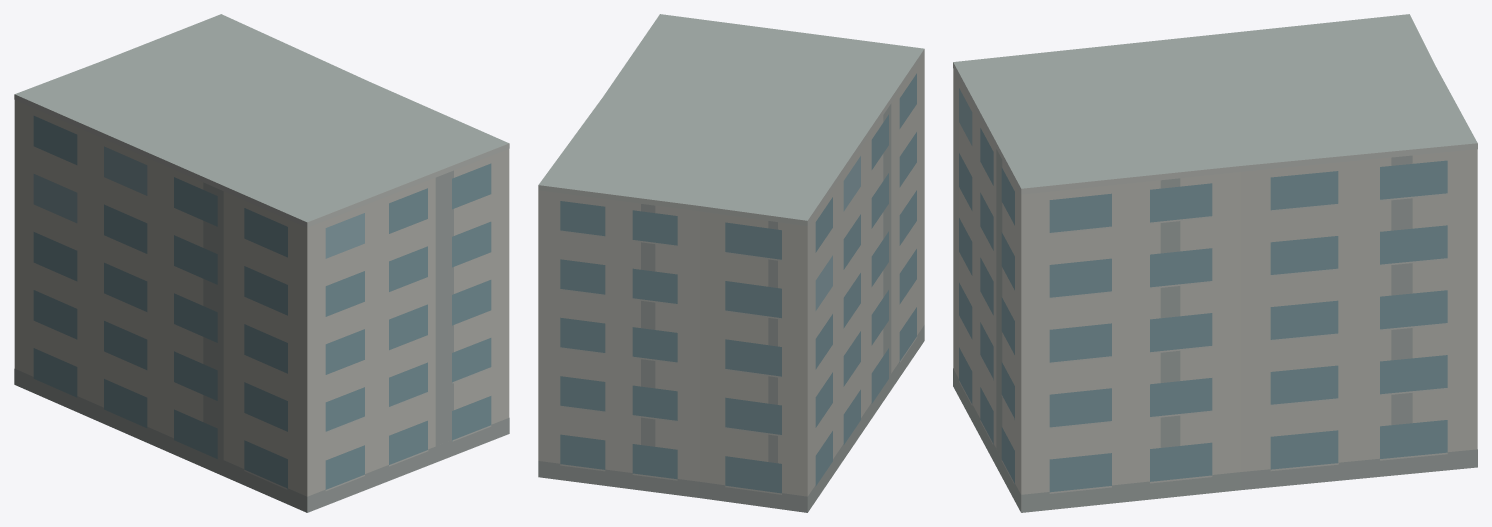
File: survey-upis-32822692.glb
3 renders of one model, left to right at view 1: azimuth 30°, elevation 25°; view 2: azimuth 150°, elevation 25°; view 3: azimuth 270°, elevation 25°, orthographic. The views are drawn at different scales.
Visible parts, largest first — view 1: survey-upis-32822692.tmp; view 2: survey-upis-32822692.tmp; view 3: survey-upis-32822692.tmp.
Part boxes in pixels (x1=…): survey-upis-32822692.tmp: x1=14, y1=14, x2=509, y2=512; survey-upis-32822692.tmp: x1=538, y1=14, x2=924, y2=512; survey-upis-32822692.tmp: x1=953, y1=14, x2=1477, y2=512.
Size of the model in its own units: 15.15 by 13.1 by 19.23.
